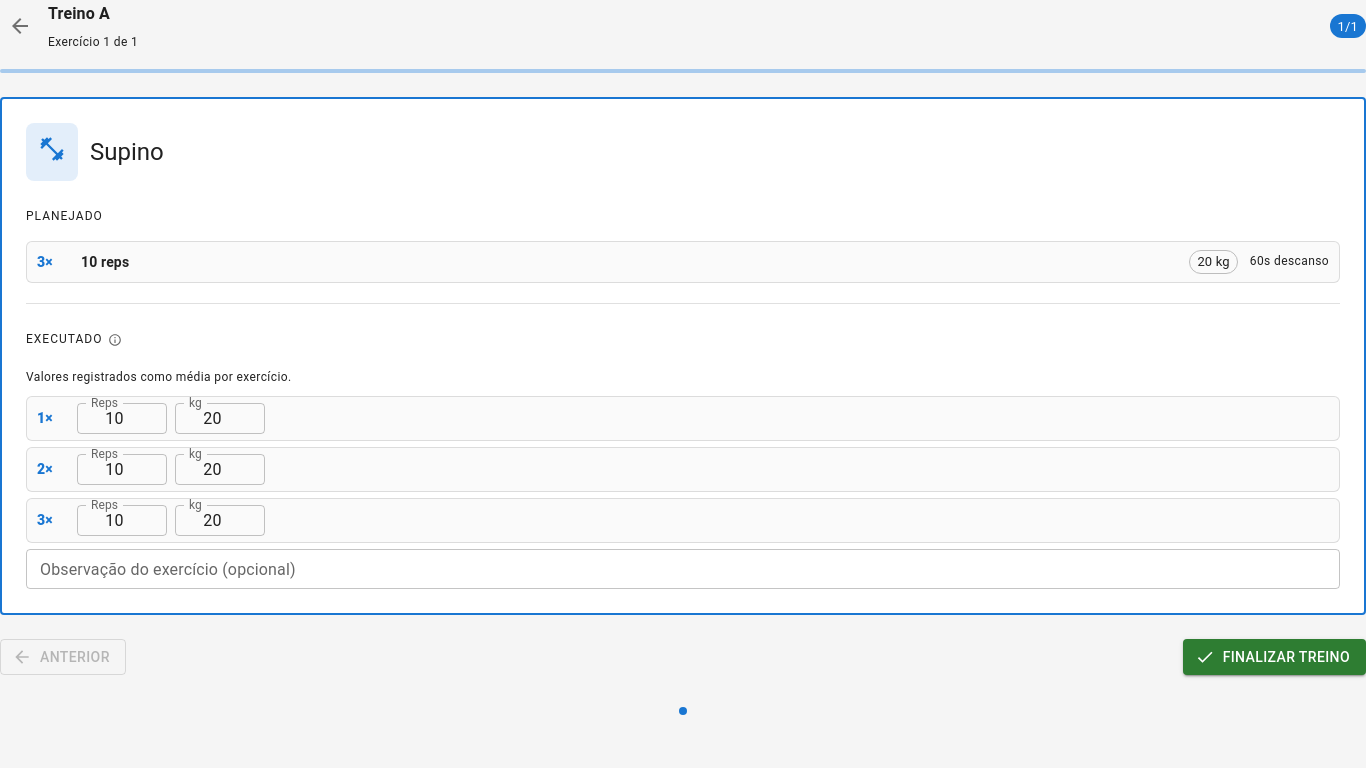
Test case: ExecutarFichaPage — hint de agregação por exercício › registro inválido (400) exibe a mensagem do servidor, não o genérico
Expected: the heading "Supino" is shown, [90,136,164,168]
What coordinates should you click on to do the following:
click the button "Finalizar treino"
I would click on:
 (1274, 657)
Its box is [1183,639,1365,675].
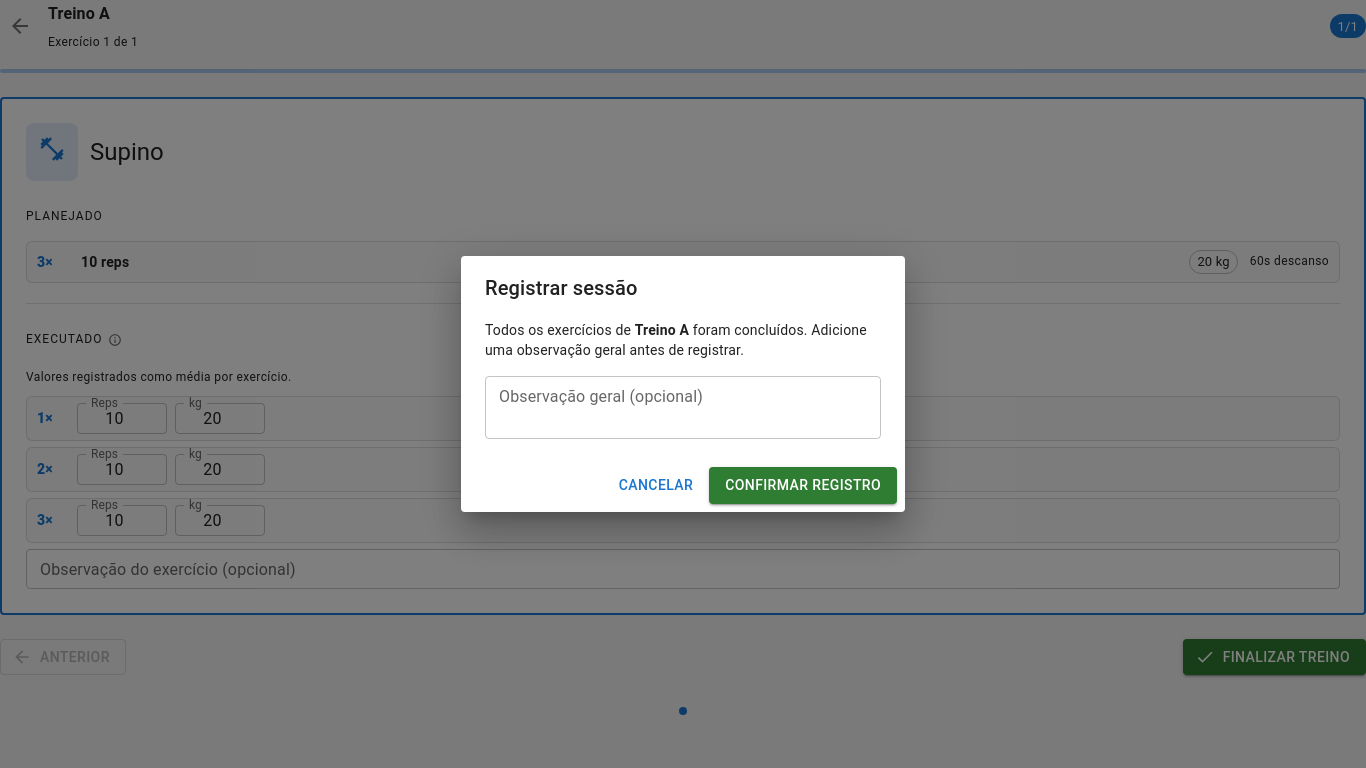
What coordinates should you click on to do the following:
click the button "Confirmar registro"
I would click on:
 (803, 486)
Its box is [709,467,897,504].
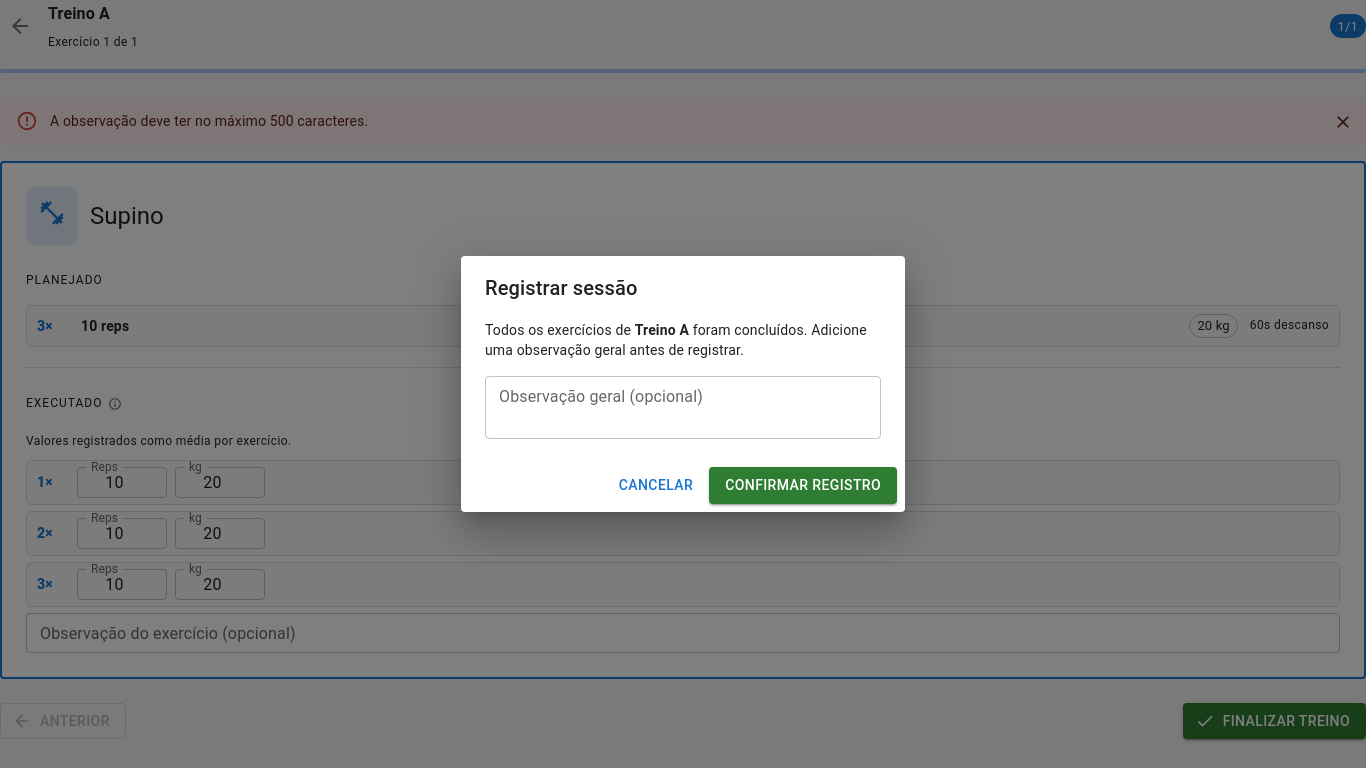
Expected: the text "A observação deve ter no máximo 500 caracteres." is shown, [50,113,368,129]
